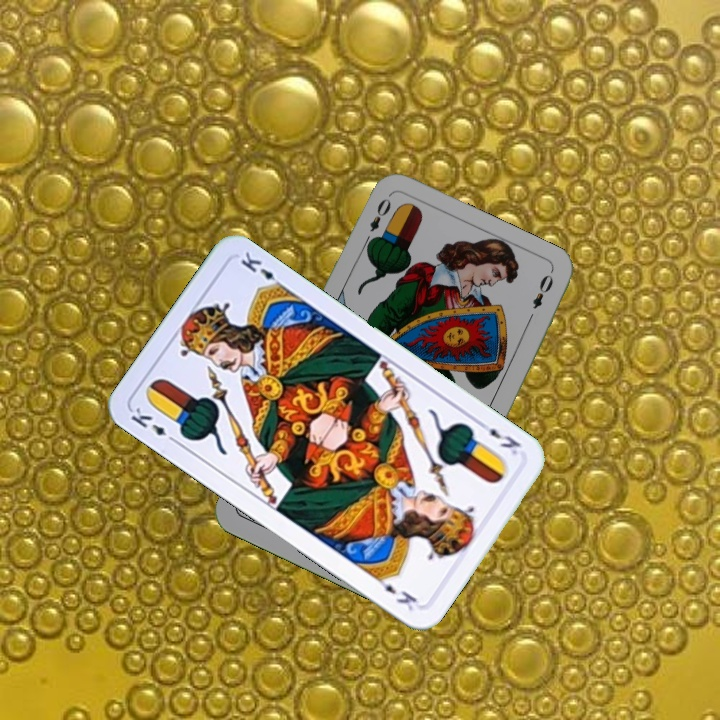EK: (126, 403, 180, 447), (474, 417, 524, 458)
EO: (359, 194, 394, 249)
